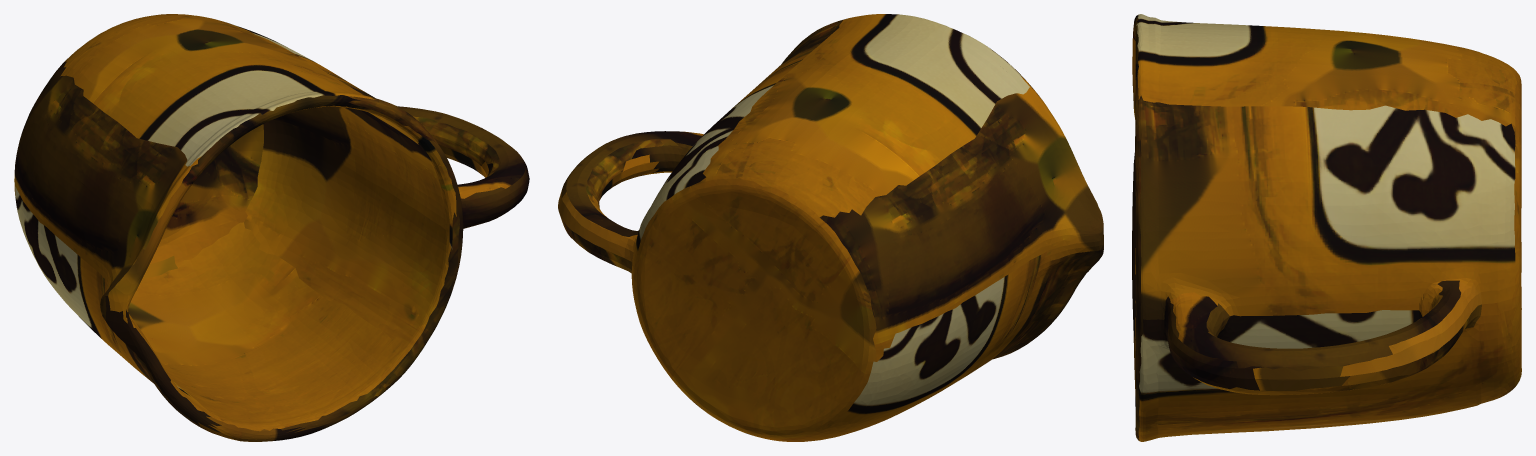
The model's file is Boro.fbx.
The picture shows the model from 3 angles, left to right: view 1: azimuth 30°, elevation 25°; view 2: azimuth 150°, elevation 25°; view 3: azimuth 270°, elevation 25°; orthographic projection. The views are drawn at different scales.
Visible parts, largest first — view 1: geometry_0.001; view 2: geometry_0.001; view 3: geometry_0.001.
Boxes of the visible parts, x1,y1,x2,y2 form: geometry_0.001: (14,14,529,441); geometry_0.001: (558,14,1103,441); geometry_0.001: (1132,14,1521,441).
Bounding box in the file's own units: 5245 × 3674 × 3368.
